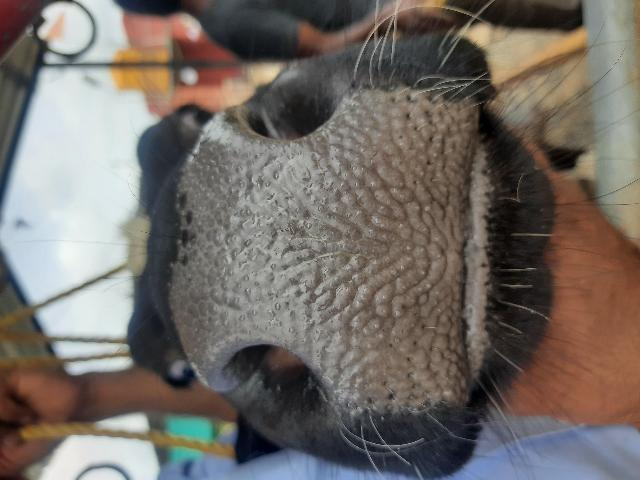Muzzle: (192, 140, 472, 358)
